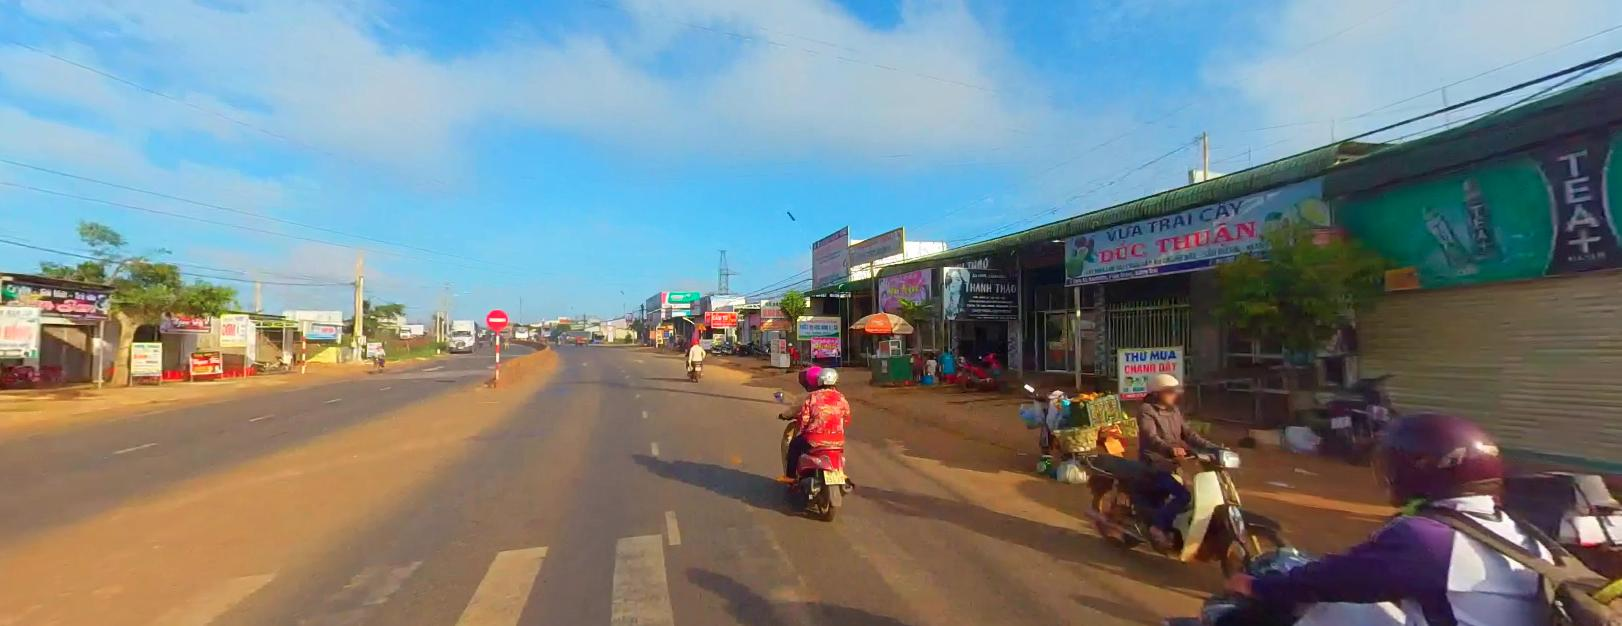Cam nguoc chieu: (485, 308, 508, 329)
Nguy hiem: (696, 321, 705, 329), (663, 324, 668, 329)
